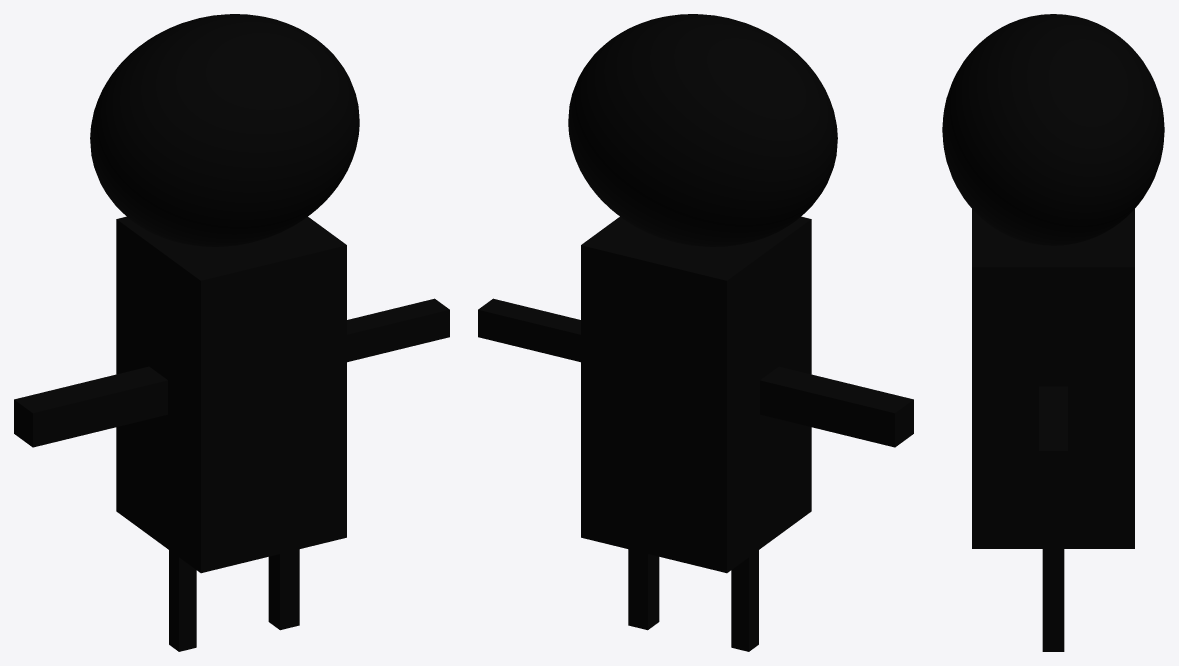
File: hockeyPlayer.fbx
3 renders of one model, left to right at view 1: azimuth 30°, elevation 25°; view 2: azimuth 150°, elevation 25°; view 3: azimuth 270°, elevation 25°, orthographic. The views are drawn at different scales.
Parts seen in each view (by area): view 1: node_id78, node_id76, node_id82, node_id80, node_id86, node_id84; view 2: node_id78, node_id76, node_id82, node_id80, node_id86, node_id84; view 3: node_id78, node_id76, node_id80, node_id84.
Boxes of the visible parts, x1,y1,x2,y2 form: node_id78: [116, 216, 346, 573]; node_id76: [90, 14, 359, 246]; node_id82: [14, 366, 167, 447]; node_id80: [347, 298, 449, 362]; node_id86: [169, 550, 196, 651]; node_id84: [268, 549, 299, 630]; node_id78: [581, 216, 811, 573]; node_id76: [568, 14, 837, 246]; node_id82: [760, 366, 913, 447]; node_id80: [478, 298, 580, 362]; node_id86: [731, 550, 758, 651]; node_id84: [628, 549, 659, 630]; node_id78: [972, 209, 1134, 548]; node_id76: [942, 14, 1164, 245]; node_id80: [1039, 386, 1067, 477]; node_id84: [1042, 549, 1064, 651].
Bounding box in the file's own units: 0.3667 × 0.512 × 0.1748.
Materials: 6 (1 with a texture image).
